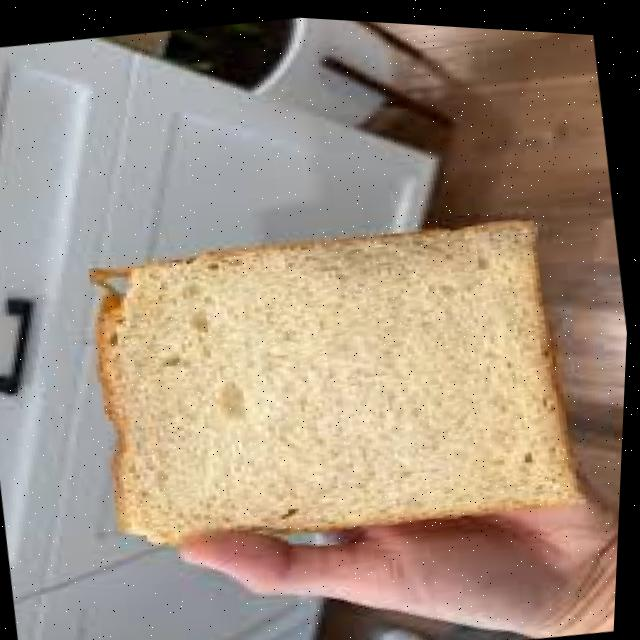Bread: (100, 214, 583, 539)
